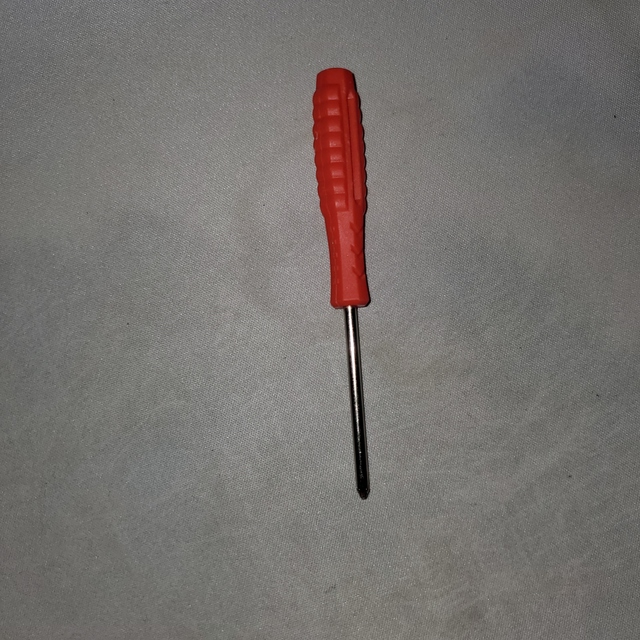screwdriver: (287, 60, 378, 511)
